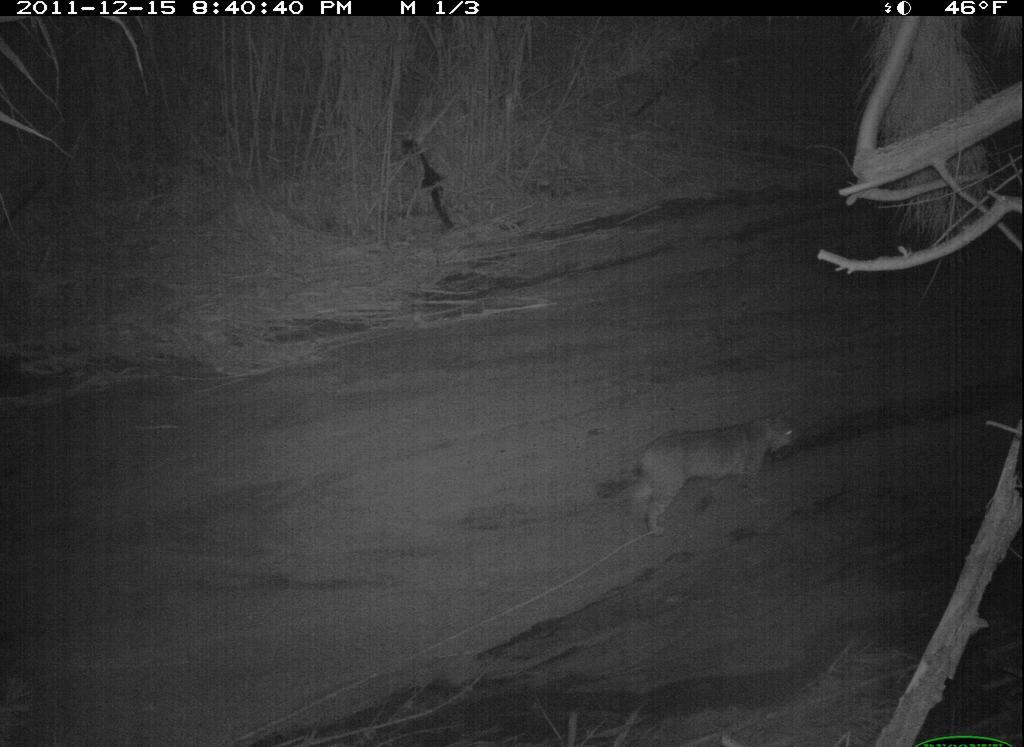bobcat: (596, 399, 804, 543)
